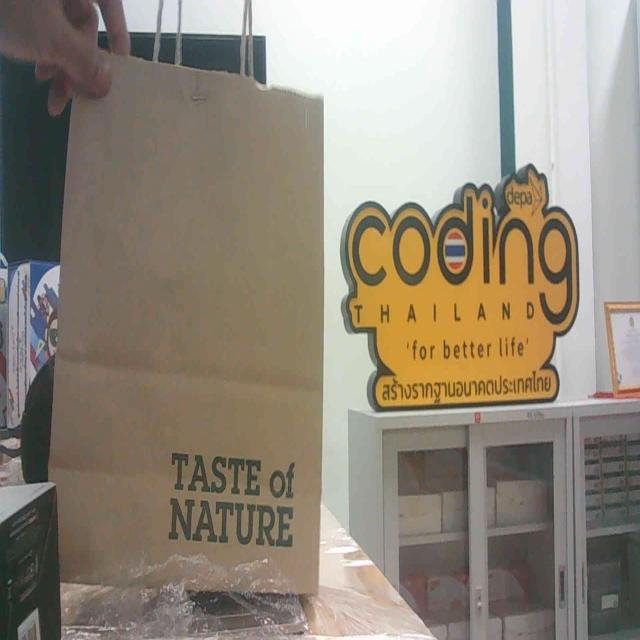bag: (68, 68, 320, 630)
